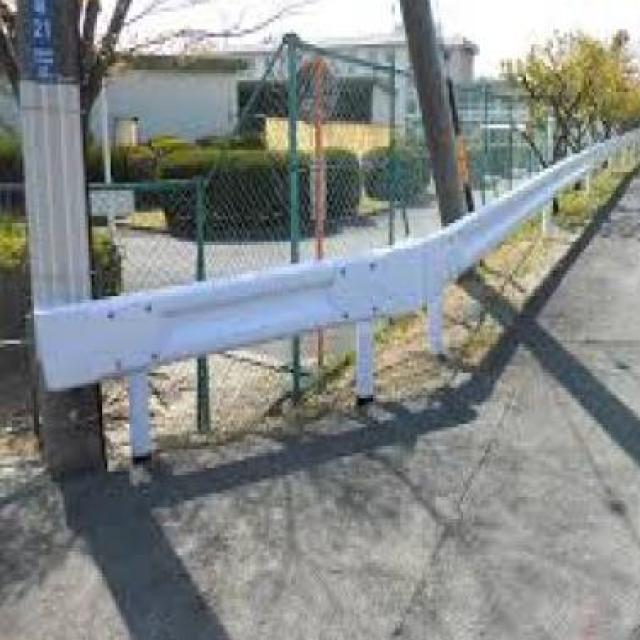Guard rail: (29, 114, 640, 489)
